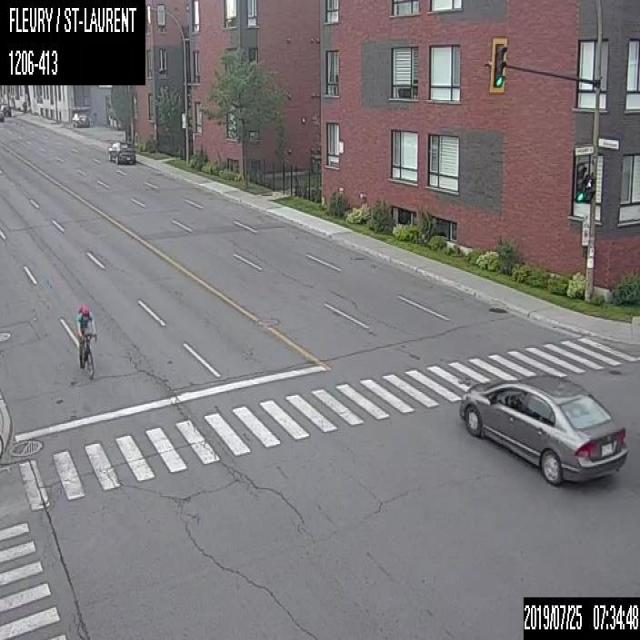cyclist: (74, 301, 96, 376)
vehicle: (459, 371, 627, 485), (106, 136, 134, 163), (71, 112, 89, 127), (0, 103, 11, 116)
